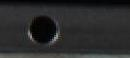holes: (25, 12, 58, 47)
